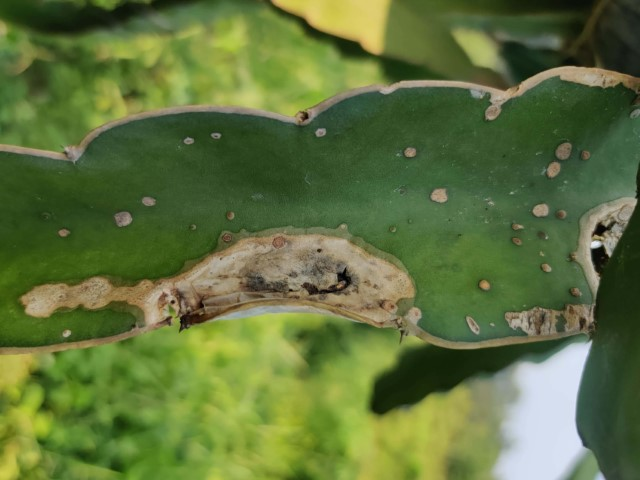stemcanker: (154, 225, 414, 340), (580, 195, 637, 279)
